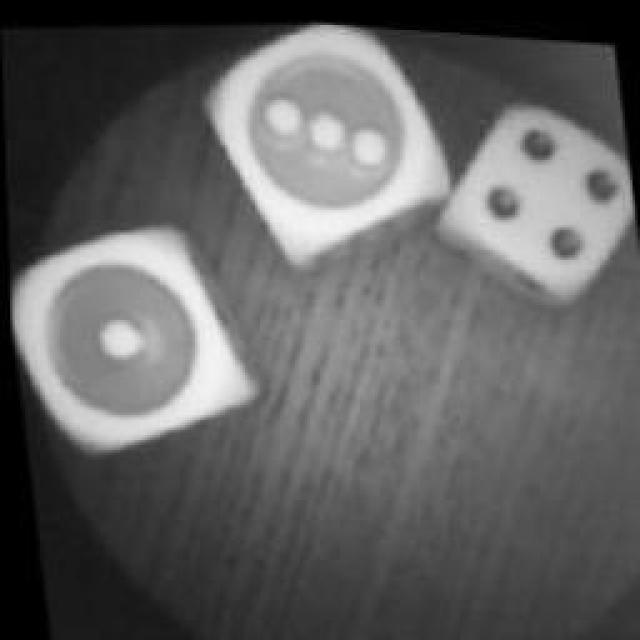dice_1: (7, 205, 252, 475)
dice_3: (202, 11, 456, 274)
dice_4: (432, 68, 640, 302)
